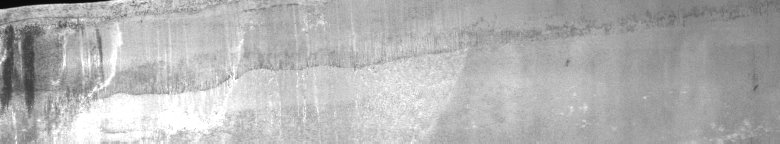kb: (4, 4, 298, 136)
